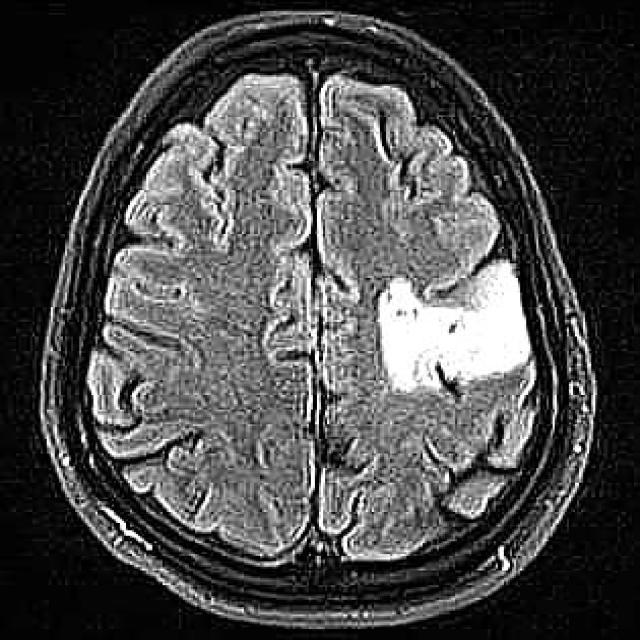Tumor-Cell: (367, 247, 542, 402)
